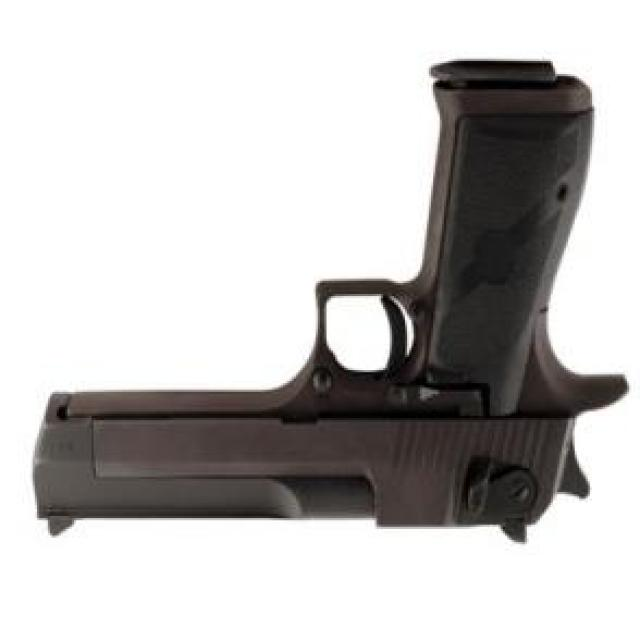pistol: (22, 47, 633, 535)
